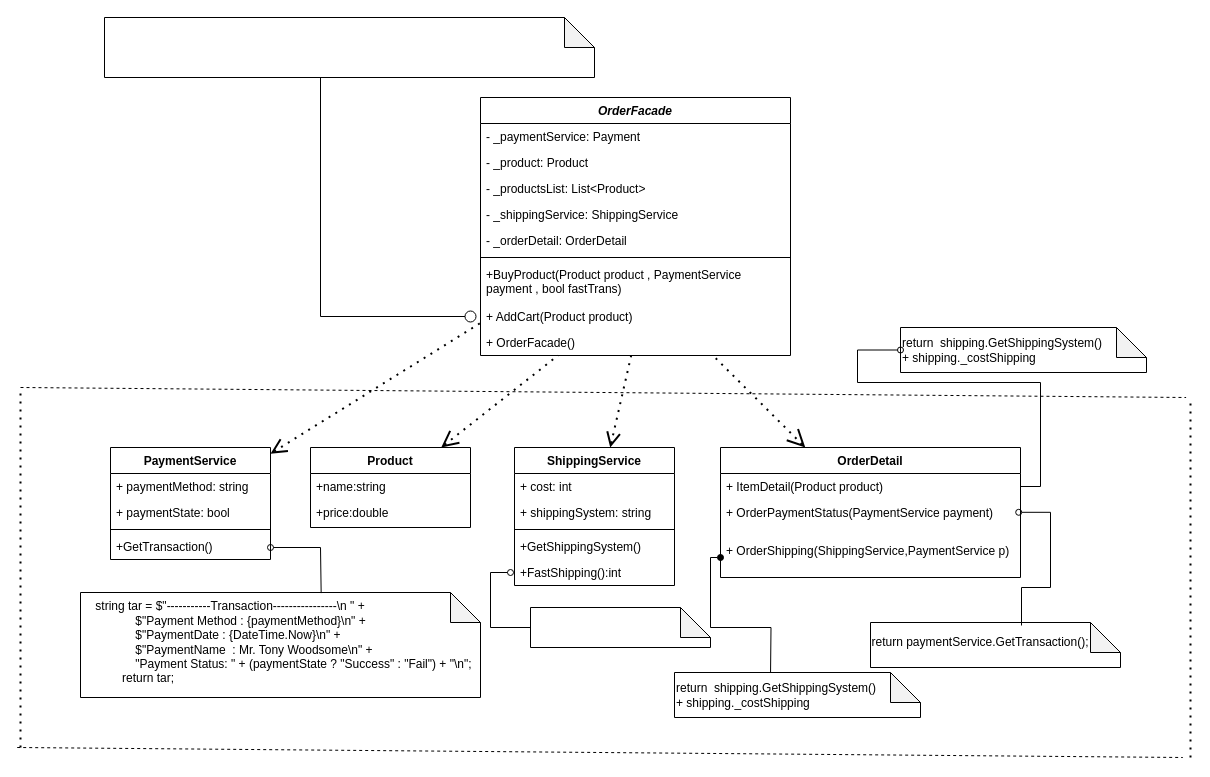
Some shapes in this 1210 by 777 pixel diagram are drawn without their labels. The centre of each missing label's shape, as x and y in pixels:
_productsList.Add(new Product() { Name = product.Name , Price = product.Price});: (x=349, y=47)
this._costShipping + 50;: (x=620, y=627)
